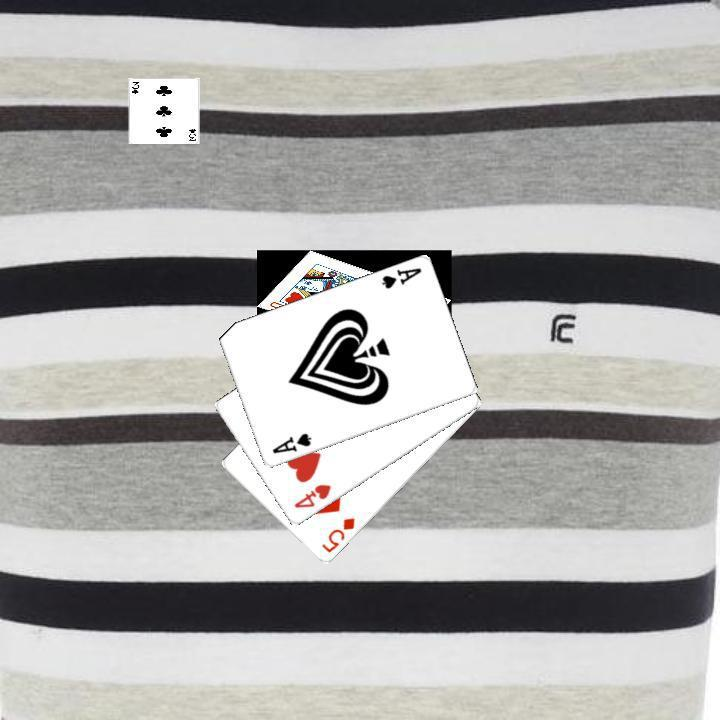4: (289, 480, 333, 511)
5: (317, 514, 357, 555)
A: (377, 264, 423, 291), (268, 429, 313, 456)
